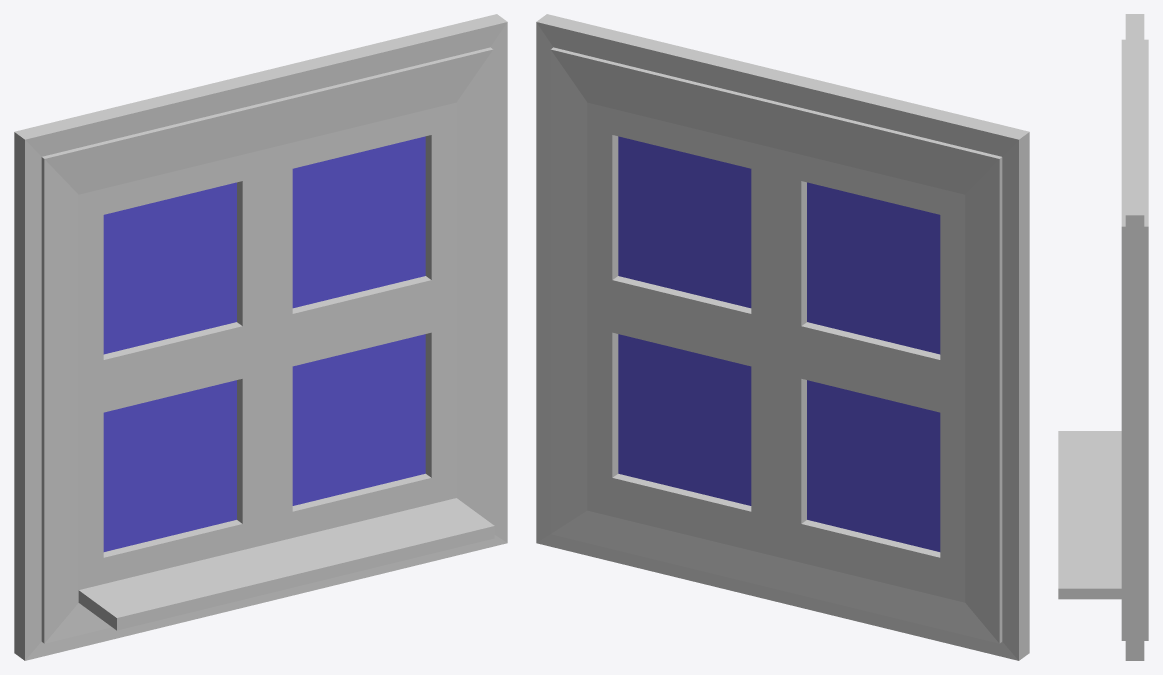
File: Window.glb
3 views of the same model, side by side, from view 1: azimuth 30°, elevation 25°; view 2: azimuth 150°, elevation 25°; view 3: azimuth 270°, elevation 25° (orthographic). The views are drawn at different scales.
Visible parts, largest first — view 1: Plane.027, Plane.028, Plane.029; view 2: Plane.028, Plane.027, Plane.029; view 3: Plane.028, Plane.027.
Part boxes in pixels (x1,y1,x2,y2): Plane.027: [78, 102, 494, 630]; Plane.028: [14, 14, 507, 660]; Plane.029: [103, 136, 425, 551]; Plane.028: [536, 14, 1029, 660]; Plane.027: [587, 102, 965, 602]; Plane.029: [618, 136, 940, 551]; Plane.028: [1121, 14, 1148, 660]; Plane.027: [1058, 431, 1121, 599].
Size of the model in its own units: 1.29 by 1.33 by 0.2433.
